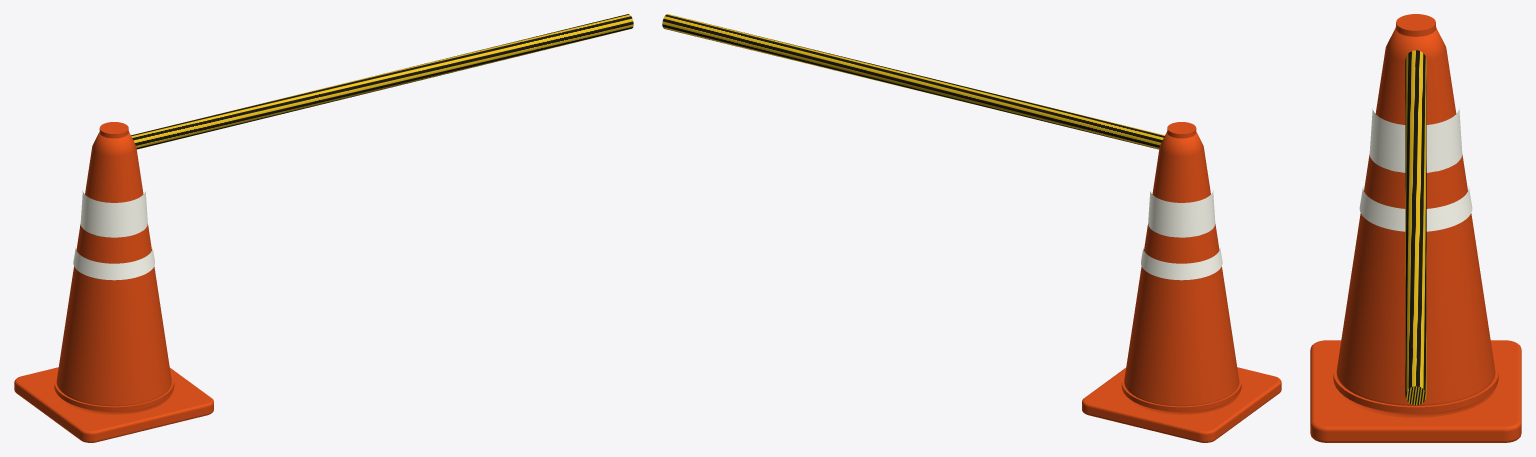
The picture shows the model from 3 angles, left to right: view 1: azimuth 30°, elevation 25°; view 2: azimuth 150°, elevation 25°; view 3: azimuth 270°, elevation 25°; orthographic projection. The views are drawn at different scales.
Parts seen in each view (by area): view 1: jp-const-cone, opt_bar_on, opt_band_on; view 2: jp-const-cone, opt_bar_on, opt_band_on; view 3: jp-const-cone, opt_bar_on, opt_band_on.
Part boxes in pixels (x1,y1,x2,y2): jp-const-cone: (14,122,213,442); opt_bar_on: (131,14,633,149); opt_band_on: (73,190,154,280); jp-const-cone: (1082,122,1281,442); opt_bar_on: (662,14,1164,149); opt_band_on: (1141,190,1222,280); jp-const-cone: (1310,14,1521,442); opt_bar_on: (1405,50,1426,405); opt_band_on: (1359,108,1472,231).
Size of the model in its own units: 1.58 by 0.71 by 0.36.
4 materials, 1 textured.
